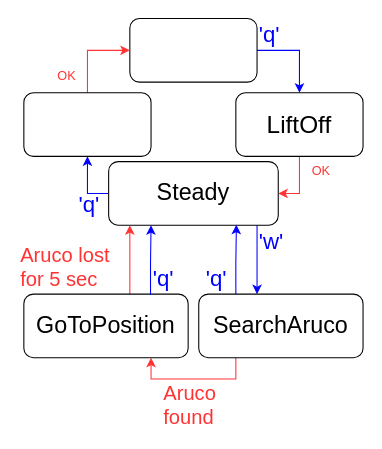
Some shapes in this 382 by 449 pixel diagram are drawn without their labels. Each missing label, with the centre of its shape:
Land: the point at 87,124
Rest: the point at 193,49
